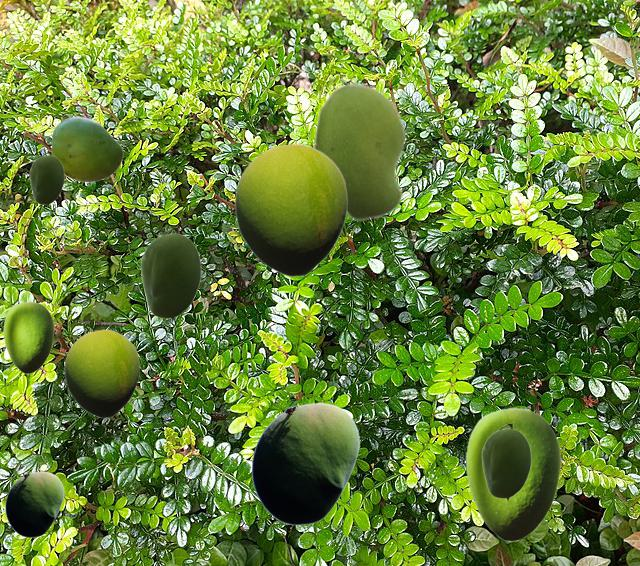green_mango: (234, 143, 347, 276), (251, 402, 359, 524), (313, 82, 405, 221), (465, 407, 560, 540), (64, 329, 139, 417), (140, 228, 200, 322), (51, 116, 122, 181), (481, 424, 530, 501), (5, 471, 63, 536), (3, 301, 53, 372), (29, 152, 63, 206)
